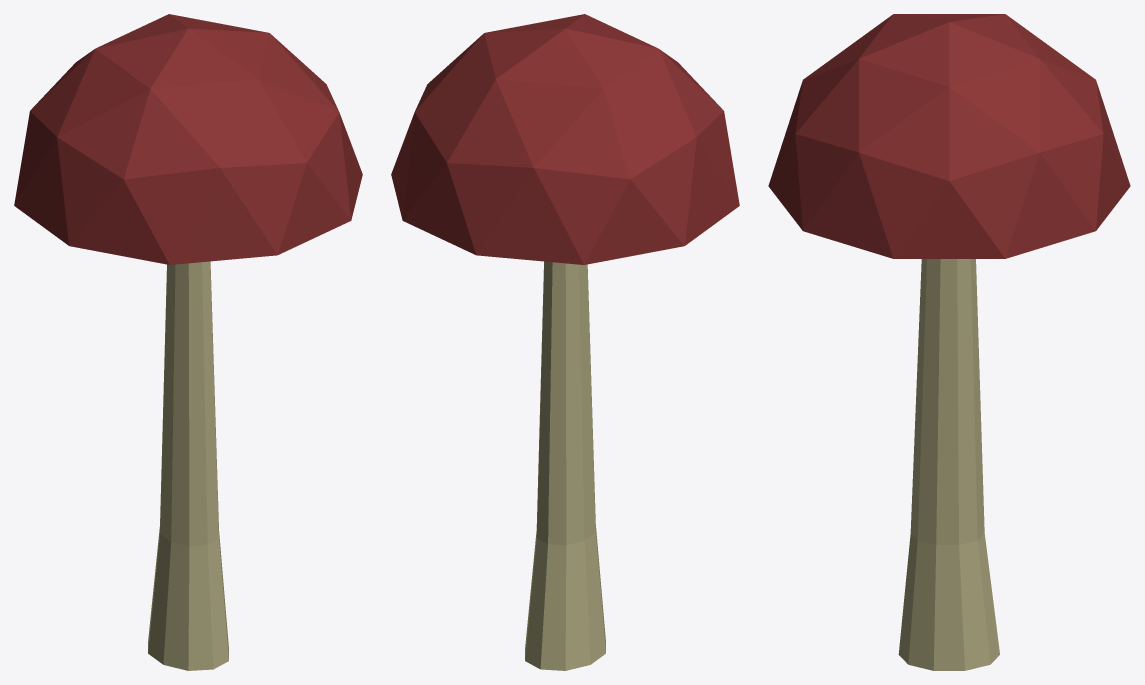
Rendered from mushroom02_red.fbx.
3 views of the same model, side by side, from view 1: azimuth 30°, elevation 25°; view 2: azimuth 150°, elevation 25°; view 3: azimuth 270°, elevation 25° (orthographic).
Parts seen in each view (by area): view 1: mushroom02_red; view 2: mushroom02_red; view 3: mushroom02_red.
Boxes of the visible parts, <box> form: mushroom02_red: <box>14,14,362,670</box>; mushroom02_red: <box>391,14,739,670</box>; mushroom02_red: <box>768,14,1130,670</box>.
Bounding box in the file's own units: 46.13 × 93.47 × 48.51.
